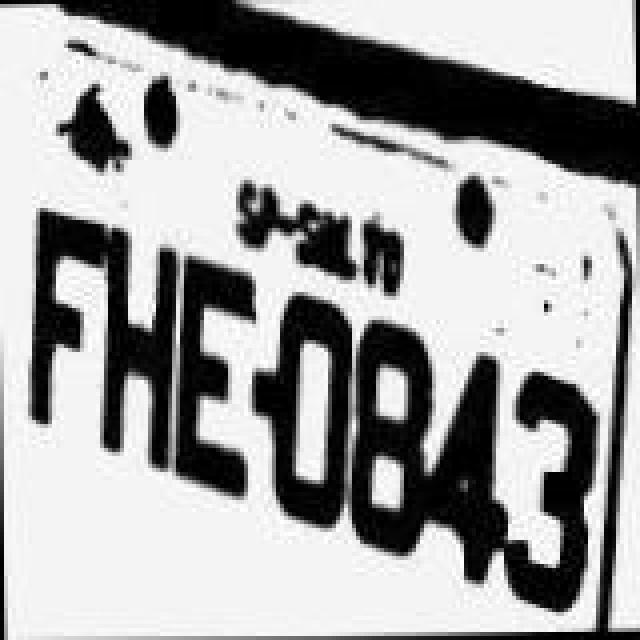3: (502, 338, 598, 614)
4: (424, 354, 508, 590)
8: (350, 316, 438, 556)
E: (172, 252, 260, 500)
F: (24, 210, 112, 438)
H: (96, 226, 184, 470)
O: (270, 292, 358, 536)
